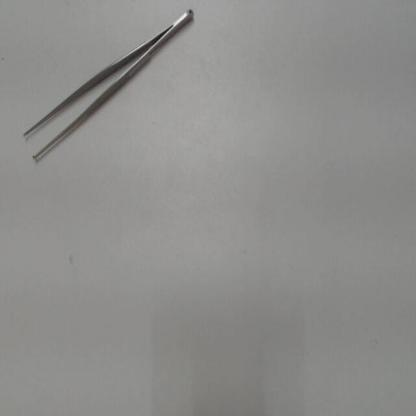Gillies Toothed Dissector: (16, 4, 200, 165)
